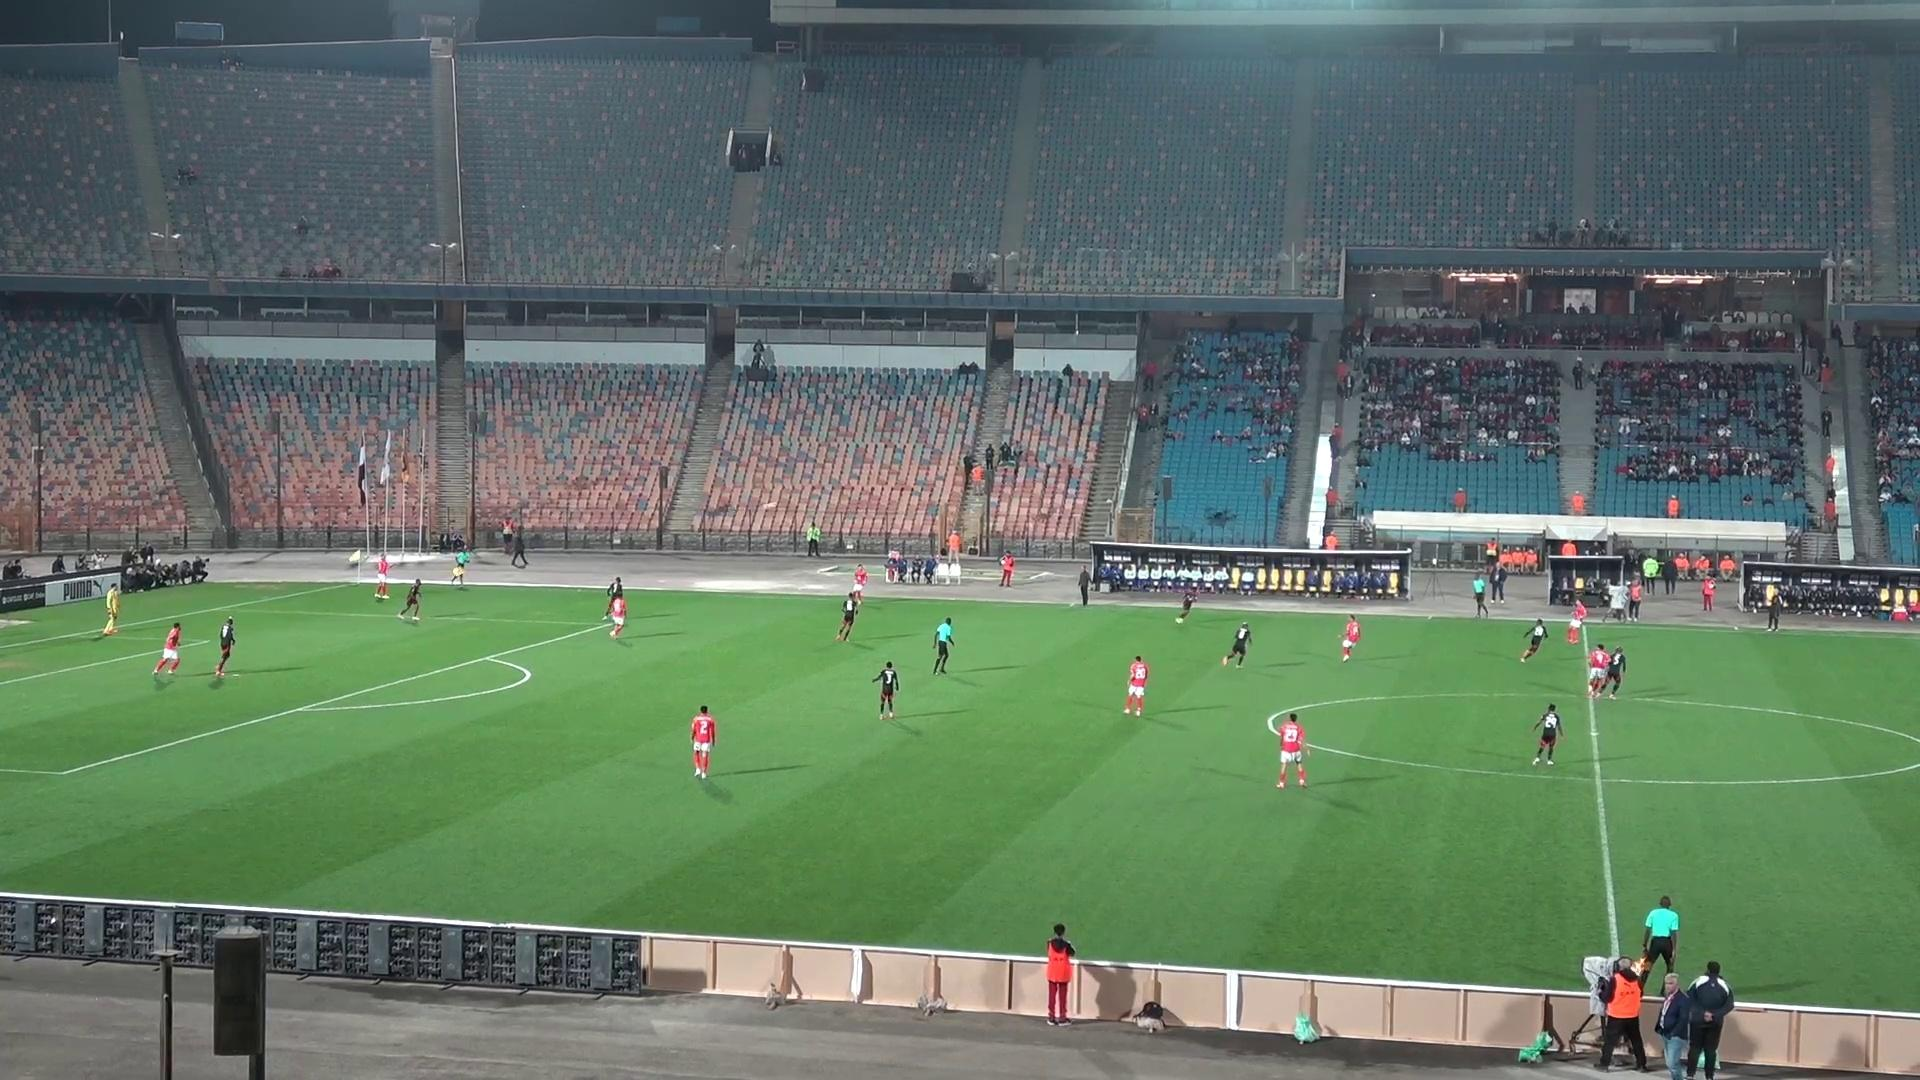GK1: (100, 584, 121, 636)
Refree: (1639, 895, 1680, 986), (931, 616, 955, 675), (1472, 562, 1495, 618), (450, 538, 472, 588)
Team1: (1270, 712, 1307, 787), (688, 705, 717, 779), (1585, 644, 1615, 700), (152, 622, 182, 676), (1122, 655, 1149, 716), (604, 583, 628, 640), (1338, 615, 1362, 661), (847, 564, 872, 607), (1567, 596, 1588, 645), (375, 549, 392, 601)
Team2: (1532, 704, 1563, 764), (873, 661, 899, 719), (212, 617, 236, 678), (835, 589, 862, 641), (1598, 646, 1626, 698), (1221, 622, 1251, 669), (1518, 618, 1548, 662), (398, 578, 421, 622), (1174, 588, 1196, 624), (604, 576, 624, 604)
